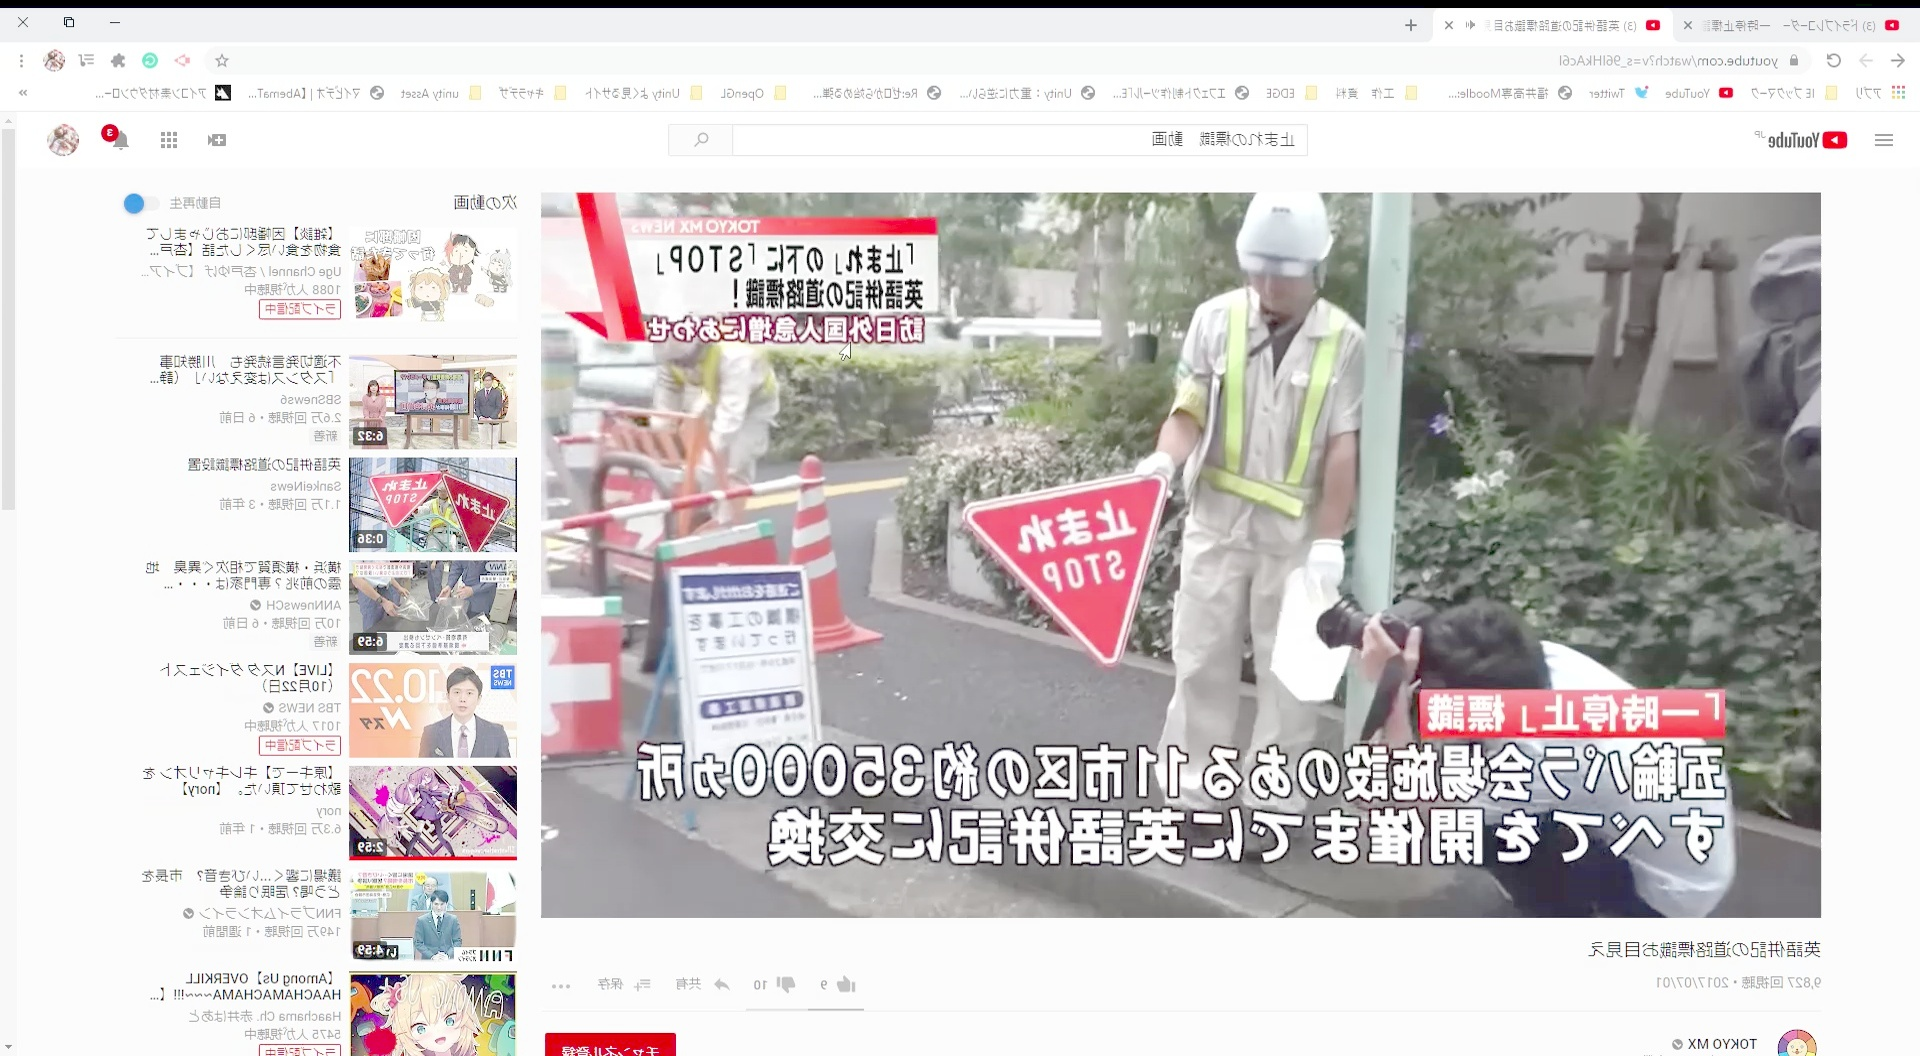Regulatory_sign_triangle: (952, 462, 1182, 668)
